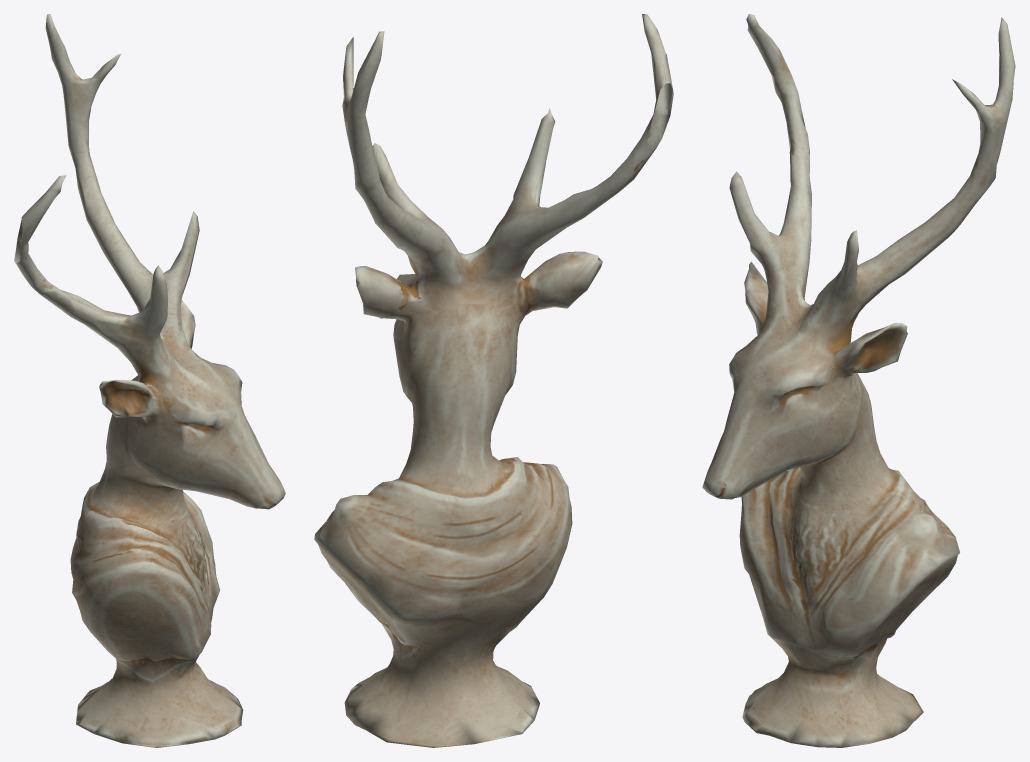
File: photogrammetry_statue_-_deer_for_games_engine.glb
The picture shows the model from 3 angles, left to right: view 1: azimuth 30°, elevation 25°; view 2: azimuth 150°, elevation 25°; view 3: azimuth 270°, elevation 25°; orthographic projection. The views are drawn at different scales.
Visible parts, largest first — view 1: DeerIsolatedlow3_19 - Default_0; view 2: DeerIsolatedlow3_19 - Default_0; view 3: DeerIsolatedlow3_19 - Default_0.
Part boxes in pixels (left/top/right/bottom): DeerIsolatedlow3_19 - Default_0: left=14, top=14, right=285, bottom=747; DeerIsolatedlow3_19 - Default_0: left=314, top=14, right=673, bottom=747; DeerIsolatedlow3_19 - Default_0: left=702, top=14, right=1015, bottom=747.
Bounding box in the file's own units: 3.04 × 7.77 × 3.26.
Materials: 1 (1 with a texture image).
